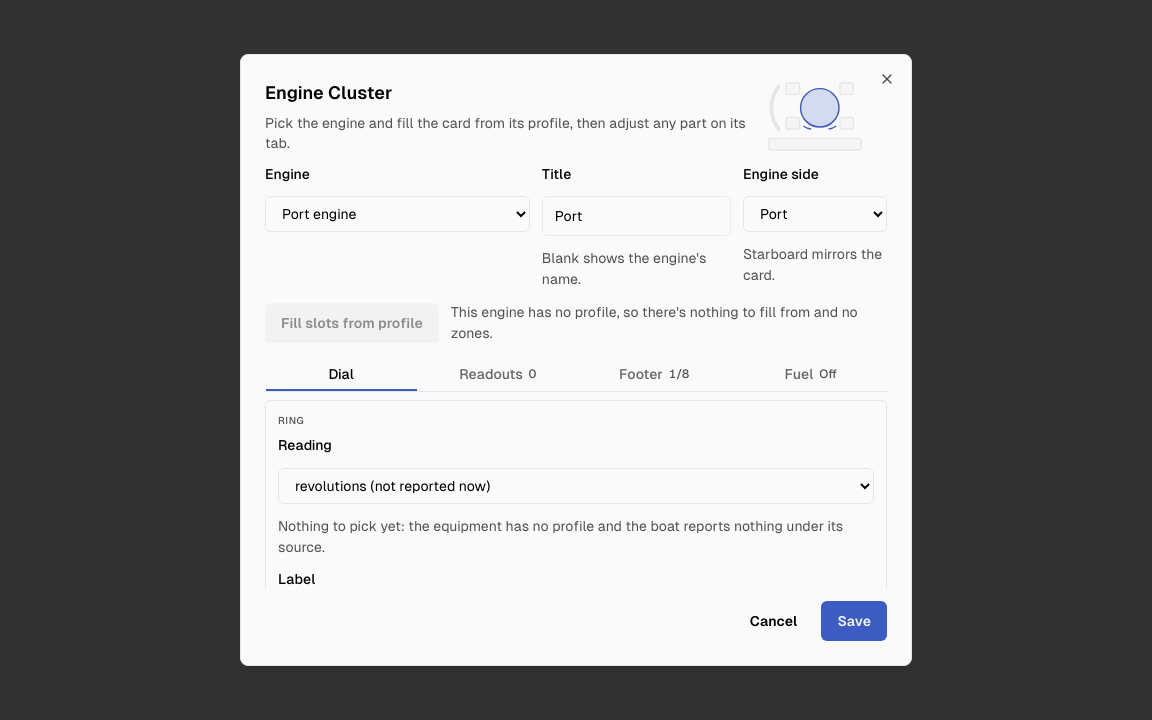
Test case: the footer tab › lists the eight slots closed, with the item named on a bound one
Click the tab "Footer 1/8" at point(654, 374), box [578,356,730,391]
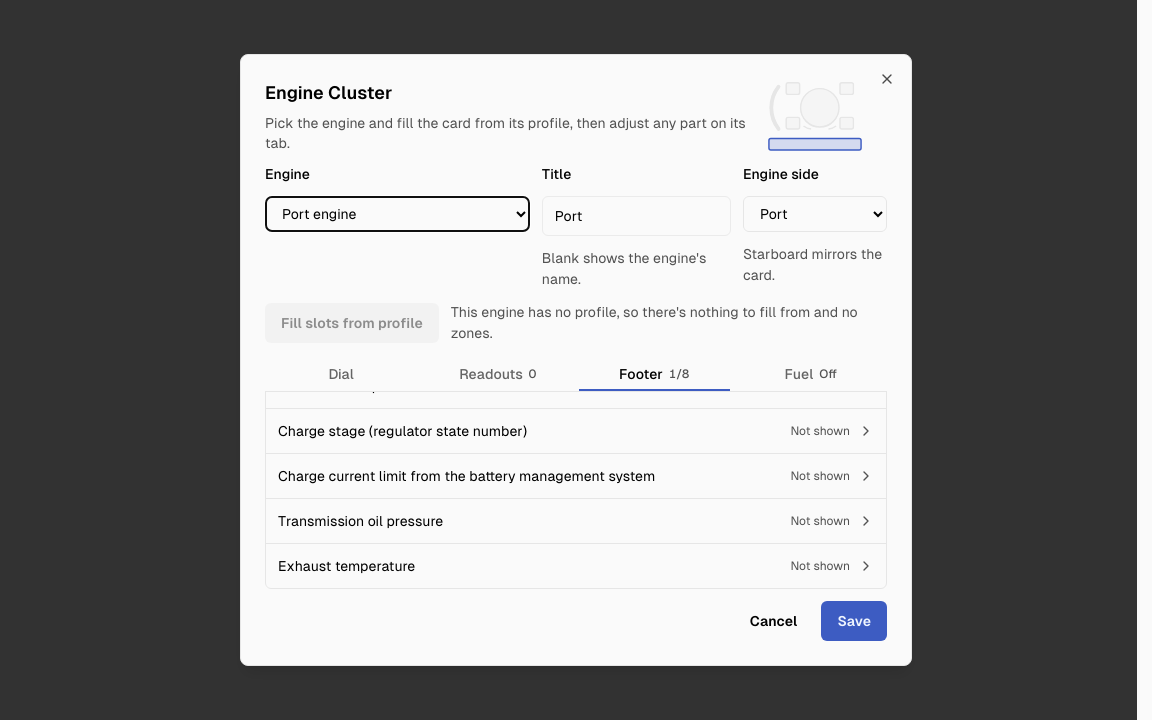
expect the text "Not shown" in the row of "Exhaust temperature" is shown: met, box [790,559,850,573]
